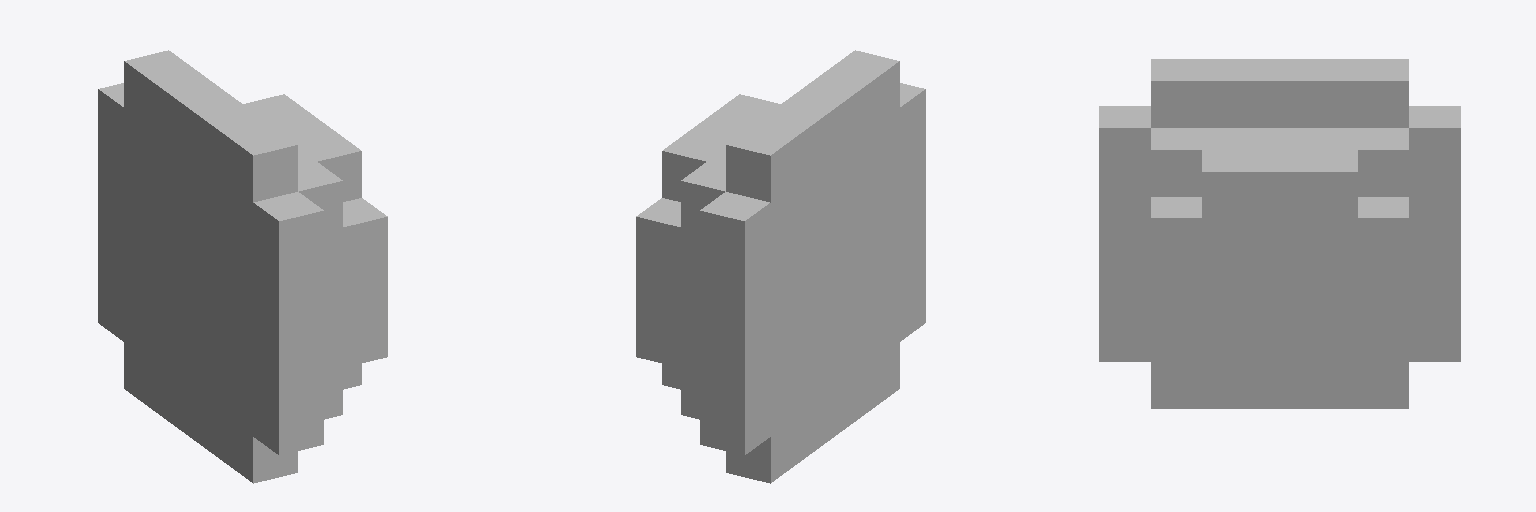
The model's file is pipe_end.obj.
3 views of the same model, side by side, from view 1: azimuth 30°, elevation 25°; view 2: azimuth 150°, elevation 25°; view 3: azimuth 270°, elevation 25° (orthographic).
Visible parts, largest first — view 1: pipe_end; view 2: pipe_end; view 3: pipe_end.
Part boxes in pixels (x1,y1,x2,y2): pipe_end: (98, 50, 387, 483); pipe_end: (636, 50, 925, 483); pipe_end: (1099, 59, 1460, 408).
Bounding box in the file's own units: 3 × 7 × 7.